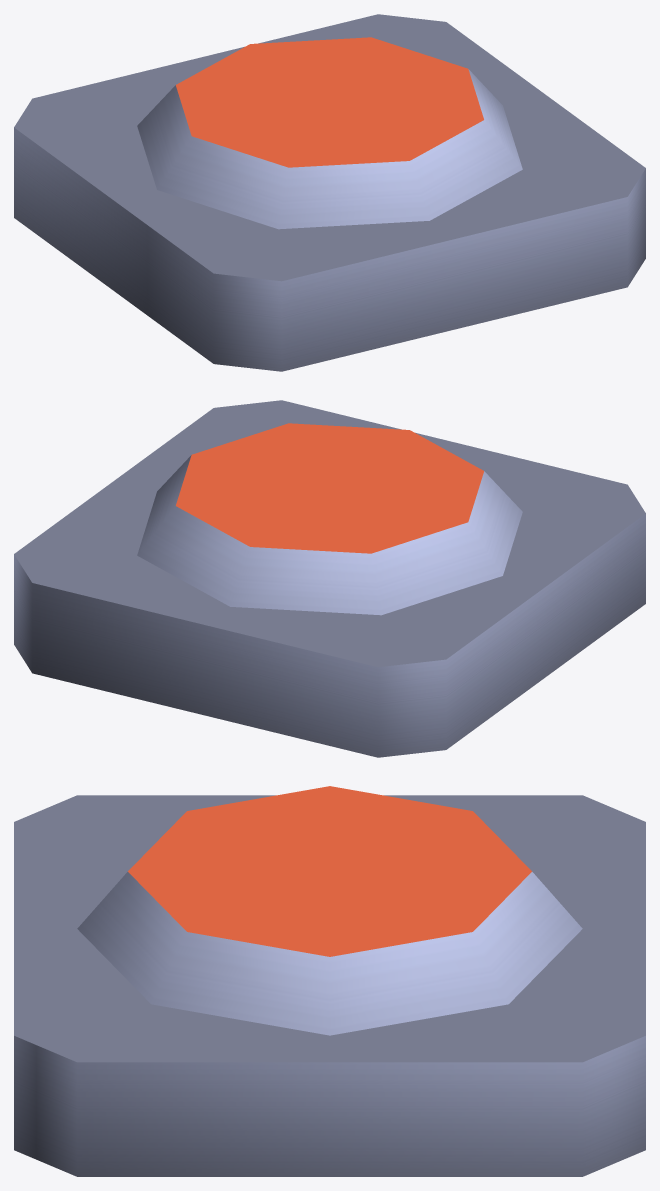
The model's file is button-floor-round.fbx.
3 renders of one model, top to bottom at view 1: azimuth 30°, elevation 25°; view 2: azimuth 150°, elevation 25°; view 3: azimuth 270°, elevation 25°, orthographic. The views are drawn at different scales.
Visible parts, largest first — view 1: button-floor-round, button; view 2: button-floor-round, button; view 3: button-floor-round, button.
Part boxes in pixels (bbox=[...]): button-floor-round: bbox=[14, 14, 645, 371]; button: bbox=[137, 37, 522, 229]; button-floor-round: bbox=[14, 400, 645, 757]; button: bbox=[137, 423, 522, 615]; button-floor-round: bbox=[14, 795, 645, 1176]; button: bbox=[77, 786, 582, 1035].
Size of the model in its own units: 50 by 15 by 50.
